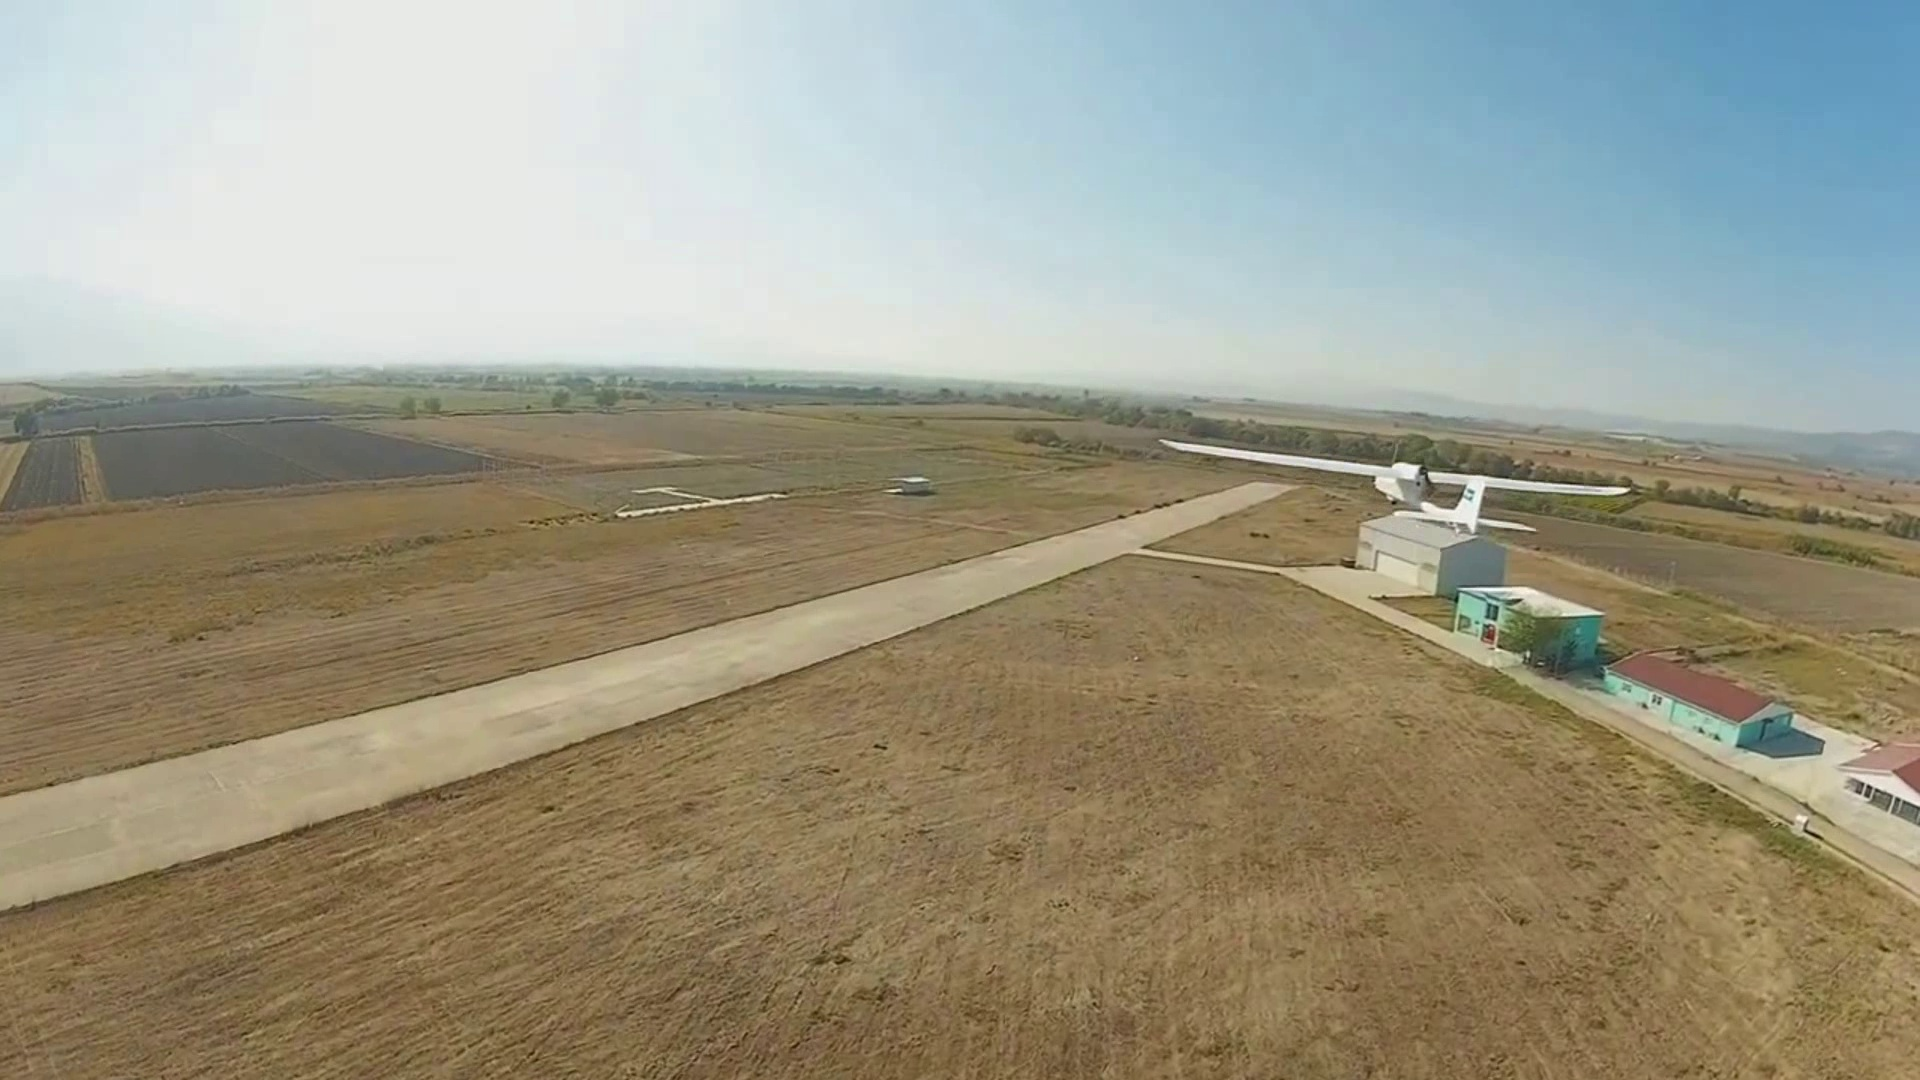airplane: (1154, 412, 1640, 524)
